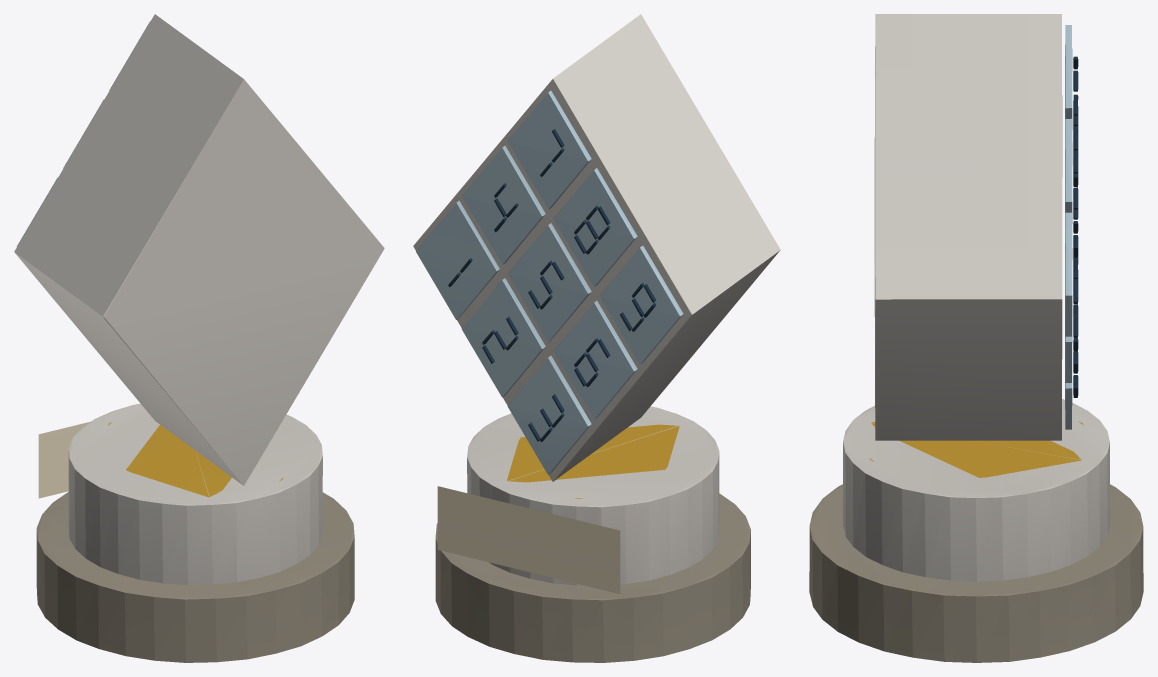
File: trophy_sudoku_low.glb
The picture shows the model from 3 angles, left to right: view 1: azimuth 30°, elevation 25°; view 2: azimuth 150°, elevation 25°; view 3: azimuth 270°, elevation 25°; orthographic projection. The views are drawn at different scales.
Visible parts, largest first — view 1: symbol, common_pedestal, trophy_plate; view 2: symbol, common_pedestal, trophy_plate; view 3: symbol, common_pedestal.
Part boxes in pixels (x1,y1,x2,y2): symbol: (14,14,384,485); common_pedestal: (36,403,354,662); trophy_plate: (38,421,90,498); symbol: (413,14,780,481); common_pedestal: (435,406,750,662); trophy_plate: (437,486,620,594); symbol: (874,14,1078,440); common_pedestal: (809,399,1143,662).
Size of the model in its own units: 0.918 by 1.72 by 0.8987.
